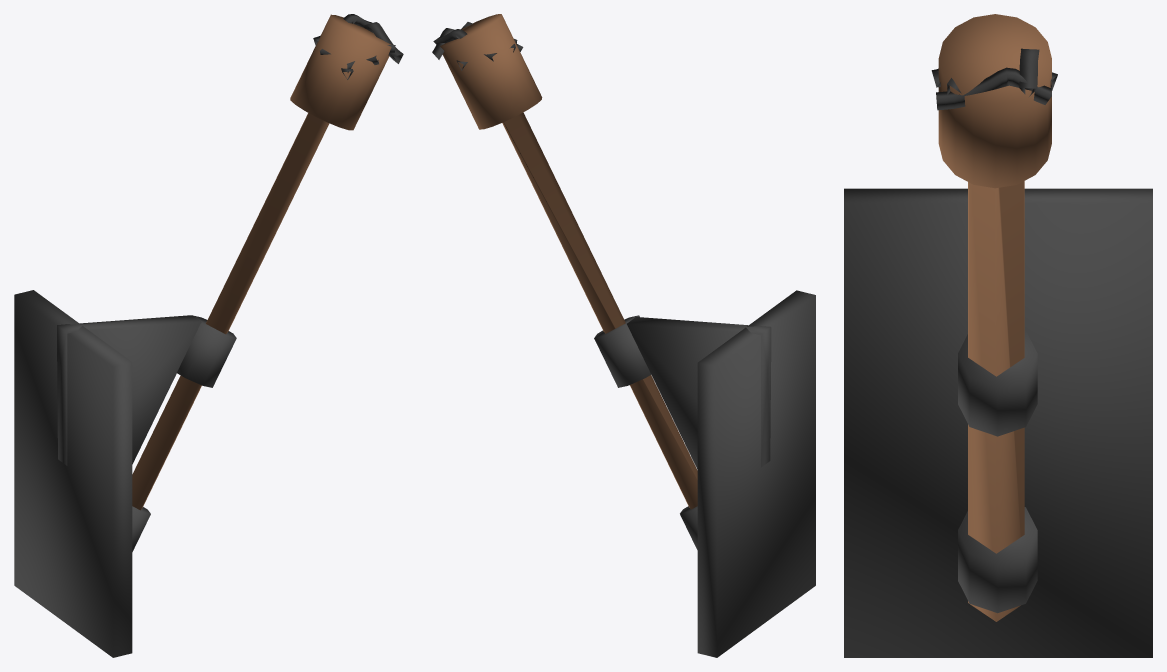
The model's file is torcheLeft.obj.
3 renders of one model, left to right at view 1: azimuth 30°, elevation 25°; view 2: azimuth 150°, elevation 25°; view 3: azimuth 270°, elevation 25°, orthographic. The views are drawn at different scales.
Visible parts, largest first — view 1: Lamp3, Lamp1; view 2: Lamp3, Lamp1; view 3: Lamp3, Lamp1, Wick2, Wick5.
Boxes of the visible parts, <box> form: Lamp3: <box>14,290,236,657</box>; Lamp1: <box>132,14,391,510</box>; Lamp3: <box>594,290,815,657</box>; Lamp1: <box>440,14,697,509</box>; Lamp3: <box>844,188,1152,657</box>; Lamp1: <box>938,14,1051,621</box>; Wick2: <box>936,67,1051,110</box>; Wick5: <box>1019,48,1039,96</box>.
Size of the model in its own units: 1.41 by 2.21 by 0.7385.
